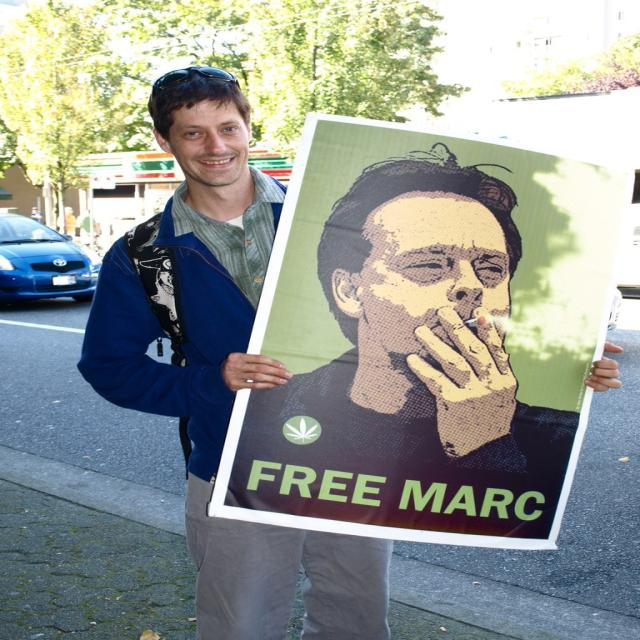car: (0, 204, 94, 301)
